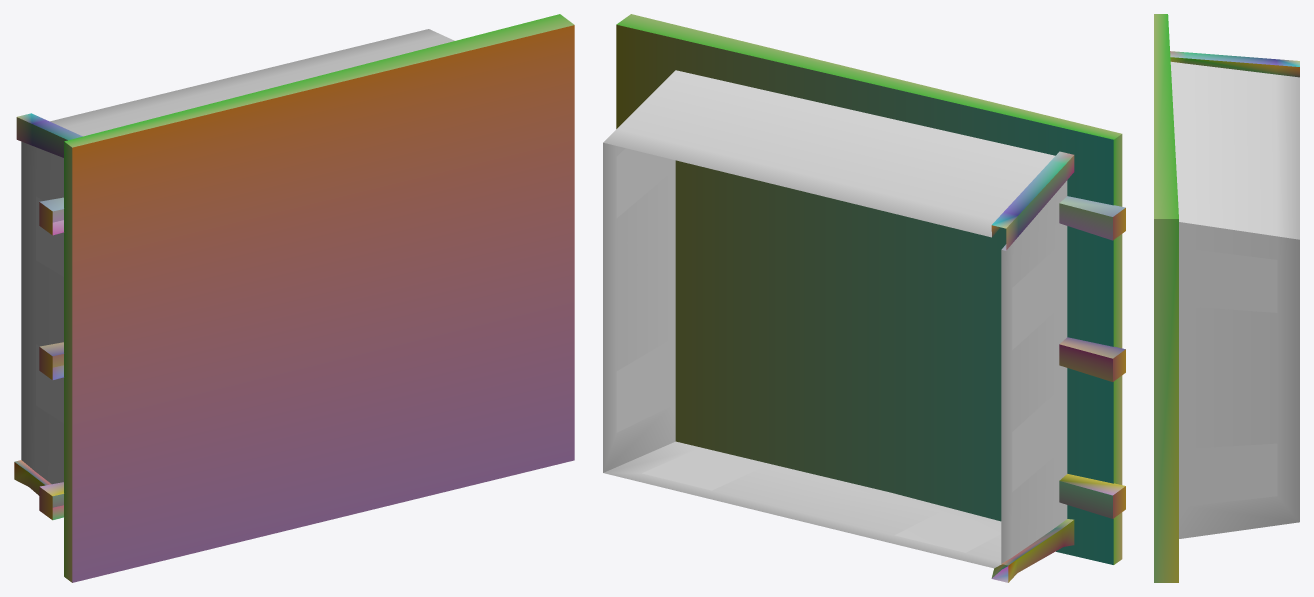
File: Village_ModularB_lit.glb
3 views of the same model, side by side, from view 1: azimuth 30°, elevation 25°; view 2: azimuth 150°, elevation 25°; view 3: azimuth 270°, elevation 25° (orthographic). The views are drawn at different scales.
Visible parts, largest first — view 1: MeshNode_0, MeshNode_2, MeshNode_1; view 2: MeshNode_0, MeshNode_2, MeshNode_1; view 3: MeshNode_2, MeshNode_0, MeshNode_1.
Boxes of the visible parts, left/top/right/bottom form: MeshNode_0: left=14, top=14, right=574, bottom=582; MeshNode_2: left=21, top=29, right=454, bottom=484; MeshNode_1: left=36, top=196, right=63, bottom=423; MeshNode_0: left=616, top=14, right=1125, bottom=582; MeshNode_2: left=603, top=70, right=1067, bottom=568; MeshNode_1: left=616, top=148, right=1056, bottom=552; MeshNode_2: left=1170, top=61, right=1299, bottom=538; MeshNode_0: left=1154, top=14, right=1299, bottom=582; MeshNode_1: left=1186, top=248, right=1277, bottom=506.
Bounding box in the file's own units: 20.16 × 16.3 × 5.93.
